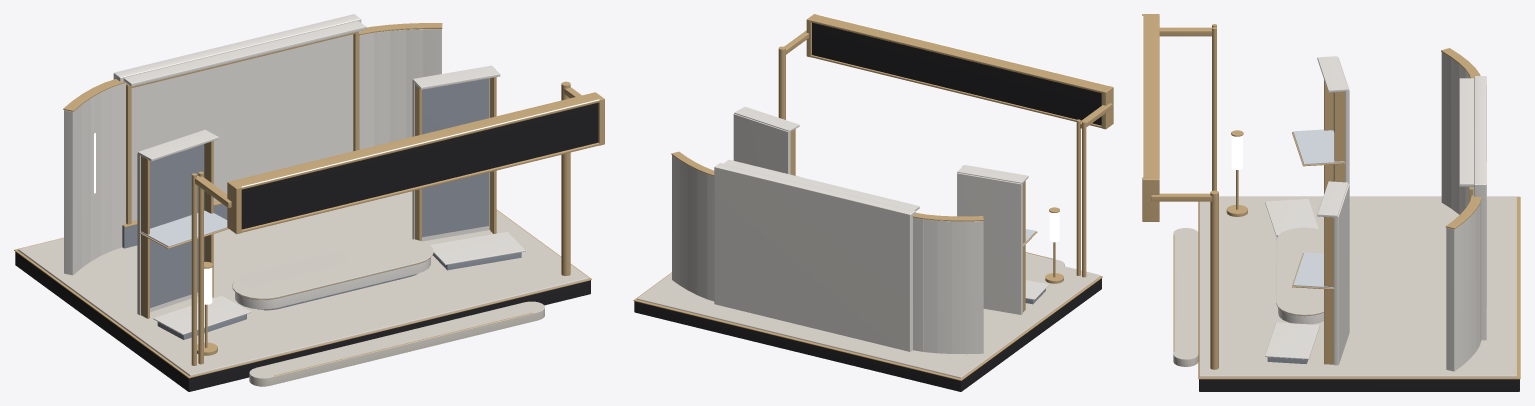
File: lumina_design_v3.glb
The picture shows the model from 3 angles, left to right: view 1: azimuth 30°, elevation 25°; view 2: azimuth 150°, elevation 25°; view 3: azimuth 270°, elevation 25°; orthographic projection. The views are drawn at different scales.
Parts seen in each view (by area): view 1: Lumina_Design_Booth_v3; view 2: Lumina_Design_Booth_v3; view 3: Lumina_Design_Booth_v3.
Boxes of the visible parts, box(x1,y1,x2,y2) form: Lumina_Design_Booth_v3: box(14, 14, 604, 391); Lumina_Design_Booth_v3: box(633, 14, 1113, 391); Lumina_Design_Booth_v3: box(1142, 14, 1520, 391).
Size of the model in its own units: 7.18 by 3.78 by 6.32.
